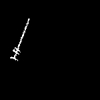treble_crochet: (11, 19, 28, 59)
